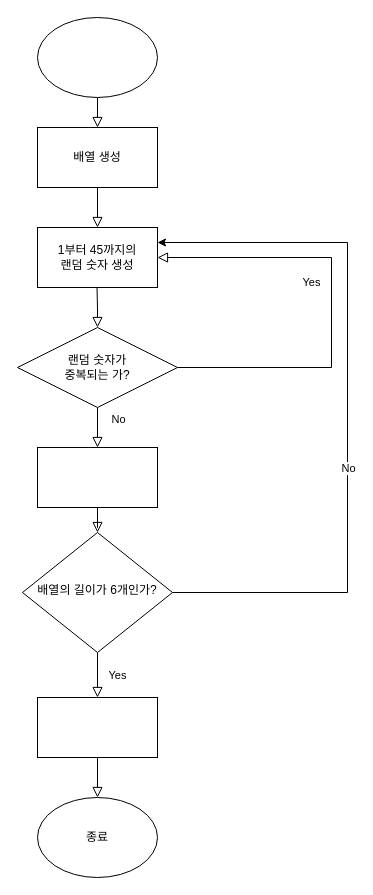
The diagram is 373 pixels wide and 895 high, and some of its shapes have lost their labels. The centre of each missing label's shape, as x and y in pixels:
"배열 반환" belongs at (97,727).
"배열에 추가" belongs at (97,477).
"시작" belongs at (97,57).
